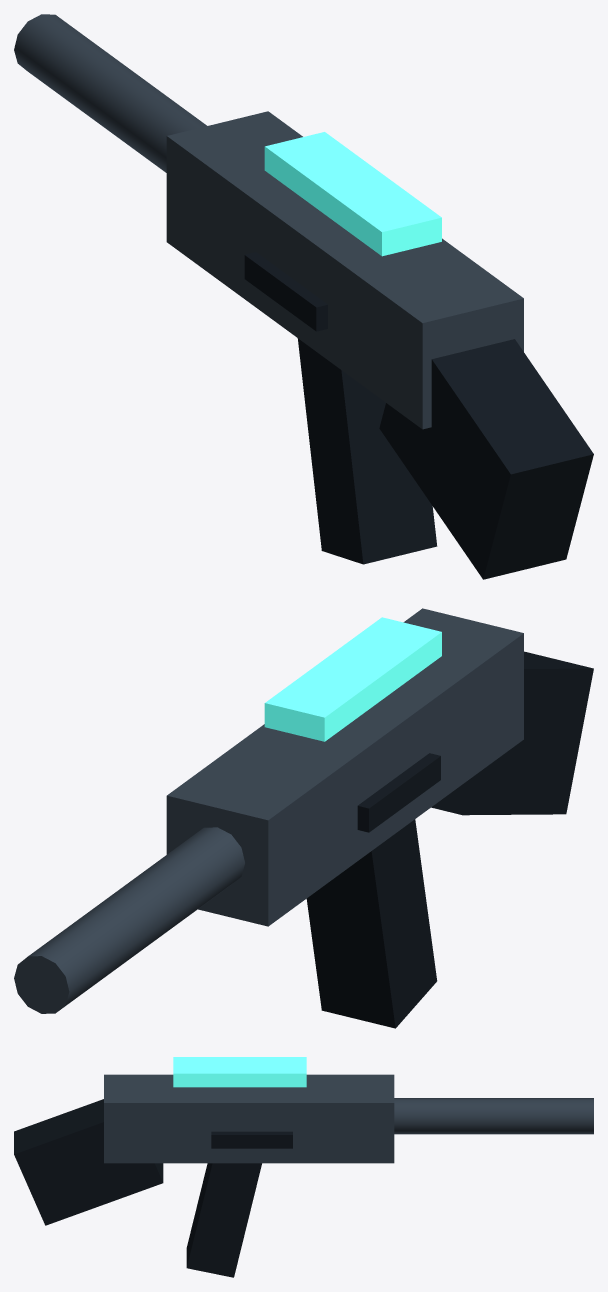
The model's file is m9-pistol.glb.
The picture shows the model from 3 angles, top to bottom: view 1: azimuth 30°, elevation 25°; view 2: azimuth 150°, elevation 25°; view 3: azimuth 270°, elevation 25°; orthographic projection. The views are drawn at different scales.
Visible parts, largest first — view 1: m9-pistol; view 2: m9-pistol; view 3: m9-pistol.
Boxes of the visible parts, box(x1,y1,x2,y2) form: m9-pistol: box(14, 14, 593, 579); m9-pistol: box(14, 608, 593, 1028); m9-pistol: box(14, 1057, 593, 1277).
Size of the model in its own units: 0.1944 by 0.5308 by 1.38.
